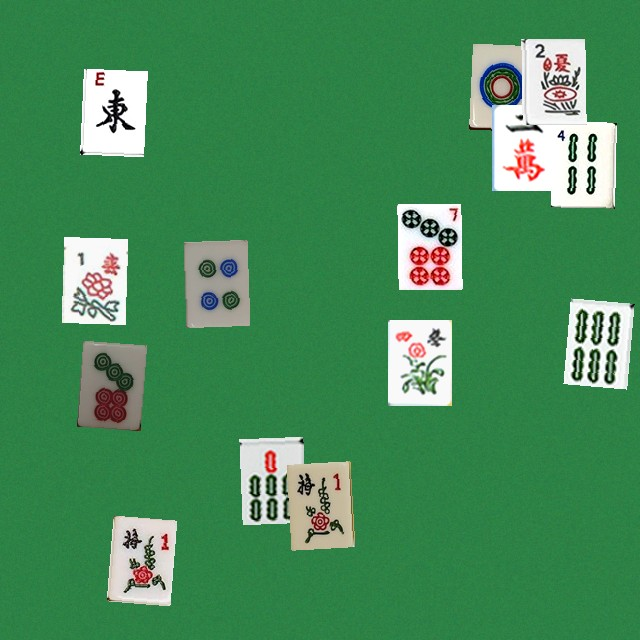tile: (76, 340, 140, 426), (61, 236, 125, 322), (239, 436, 303, 522), (387, 319, 451, 405), (563, 298, 627, 384), (469, 43, 533, 129), (286, 461, 350, 547), (183, 239, 247, 325), (491, 104, 555, 190), (551, 121, 615, 207), (106, 515, 170, 601), (80, 68, 144, 154), (397, 203, 461, 289), (521, 38, 585, 124)
